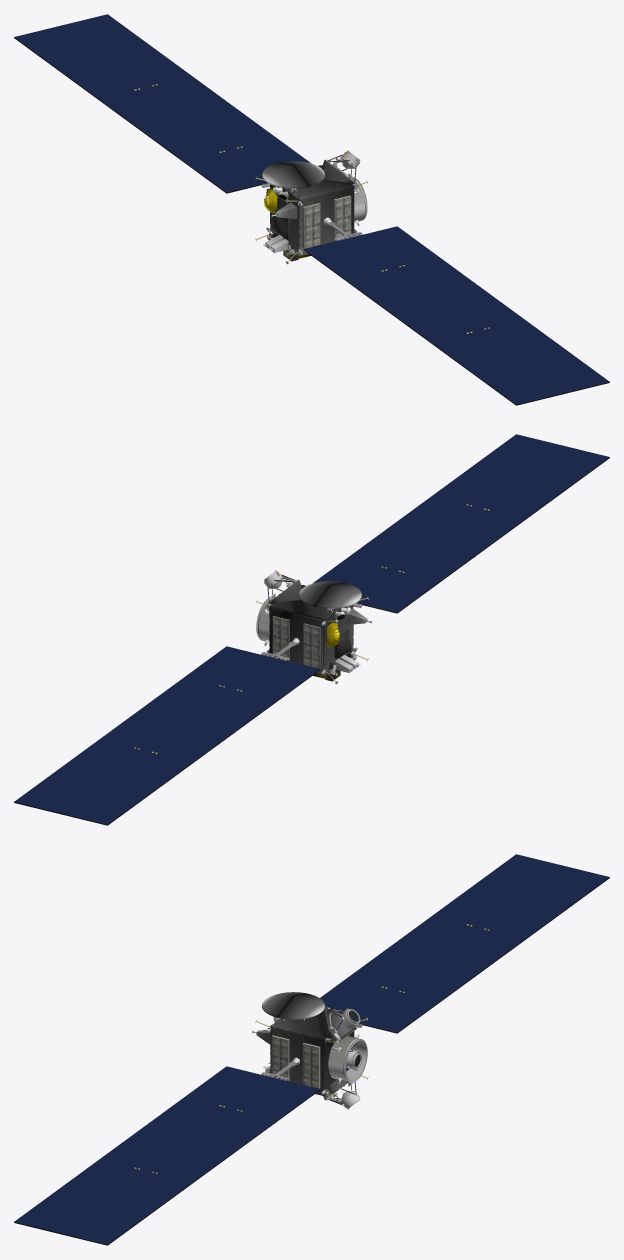
The model's file is dawn.glb.
3 views of the same model, one above another, from view 1: azimuth 30°, elevation 25°; view 2: azimuth 150°, elevation 25°; view 3: azimuth 330°, elevation 25° (orthographic).
Visible parts, largest first — view 1: tex_01.002, black_krinkle, tex_01, foil_silver_2; view 2: tex_01.002, black_krinkle, tex_01, foil_silver_2; view 3: tex_01.002, tex_01, black_krinkle, foil_silver_2.
Part boxes in pixels (x1,y1,x2,y2): tex_01.002: [14, 14, 609, 405]; black_krinkle: [265, 159, 356, 255]; tex_01: [255, 150, 367, 264]; foil_silver_2: [262, 161, 324, 188]; tex_01.002: [14, 434, 609, 825]; black_krinkle: [267, 579, 367, 676]; tex_01: [256, 570, 371, 684]; foil_silver_2: [298, 581, 361, 608]; tex_01.002: [14, 854, 609, 1245]; tex_01: [252, 1007, 368, 1109]; black_krinkle: [256, 1006, 356, 1099]; foil_silver_2: [262, 992, 325, 1019].
Size of the model in its own units: 2.2 by 2.22 by 19.7.
Materials: 4 (3 with a texture image).
